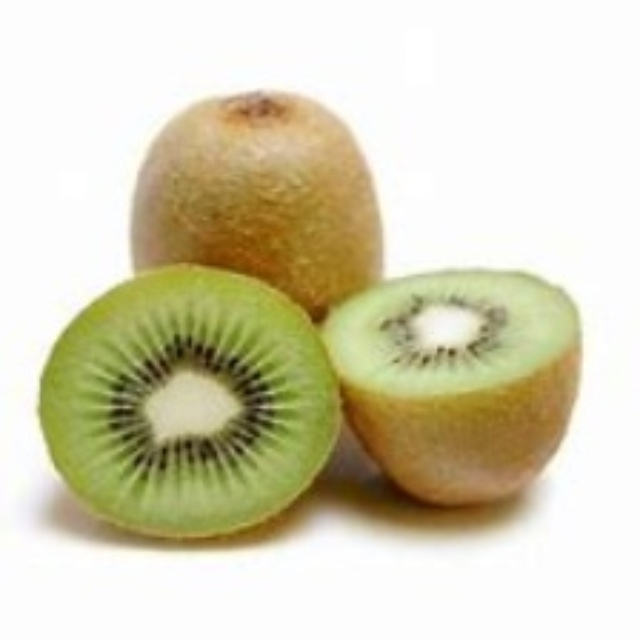kiwi: (39, 264, 347, 538), (331, 261, 591, 513), (123, 93, 376, 318)
